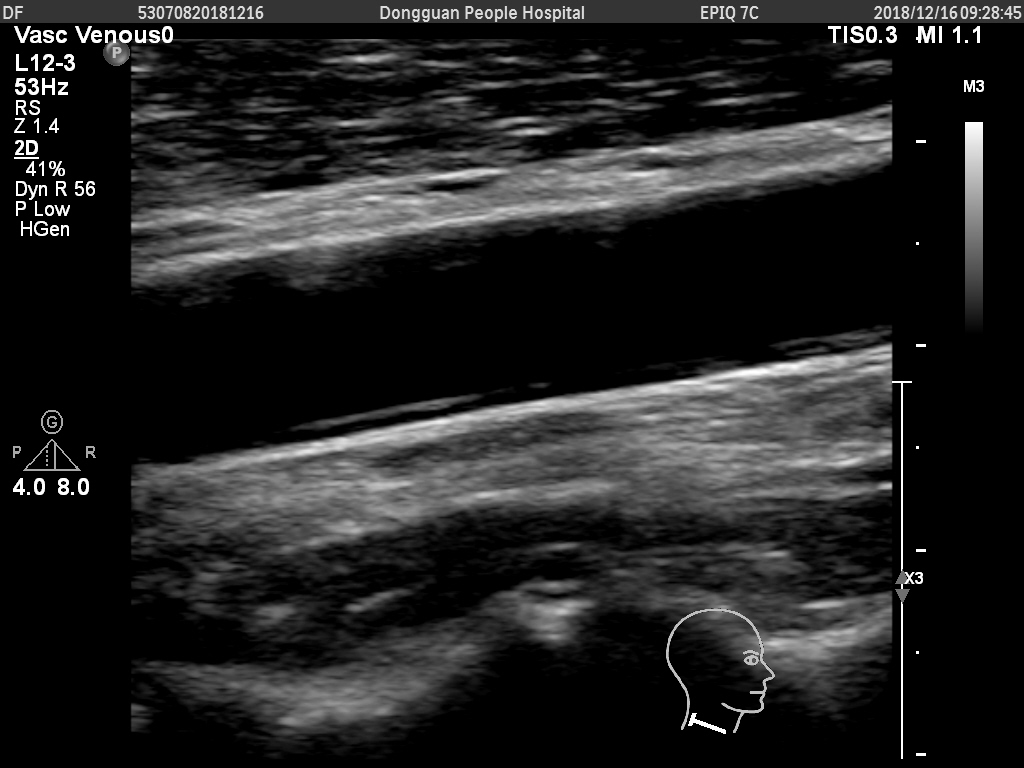sclerosis: (281, 380, 494, 443)
vessel: (222, 200, 620, 457)
